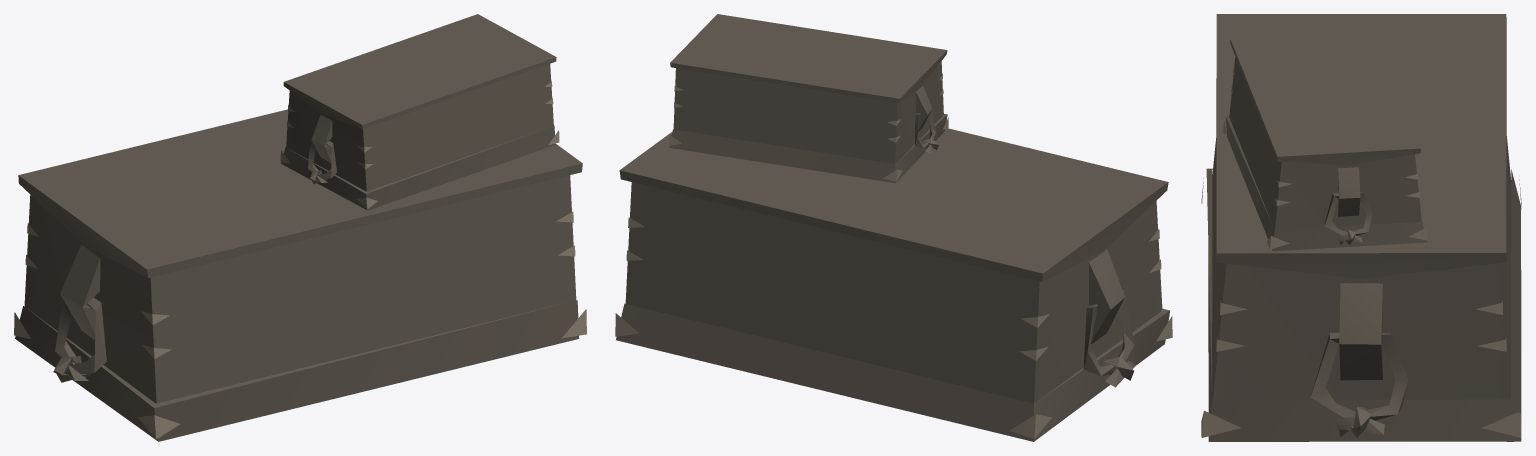
Rendered from crates.glb.
3 views of the same model, side by side, from view 1: azimuth 30°, elevation 25°; view 2: azimuth 150°, elevation 25°; view 3: azimuth 270°, elevation 25° (orthographic). The views are drawn at different scales.
Visible parts, largest first — view 1: crates; view 2: crates; view 3: crates.
Boxes of the visible parts, x1,y1,x2,y2 form: crates: (14,14,586,441); crates: (615,14,1172,441); crates: (1201,14,1521,441).
Bounding box in the file's own units: 1.4 × 0.7 × 0.7.
